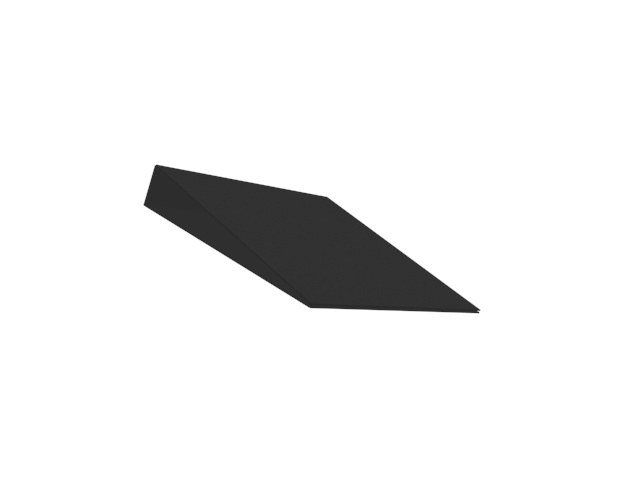ring_binder: (137, 161, 488, 320)
